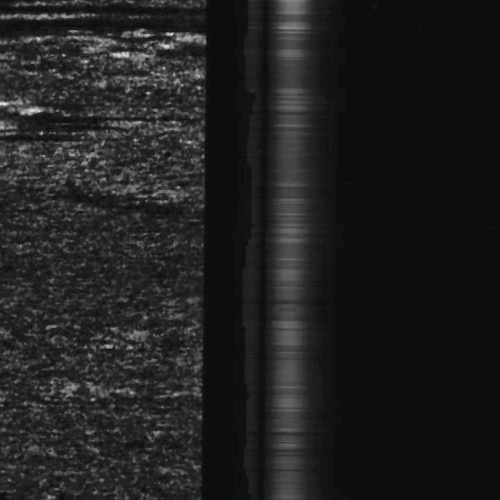object: (0, 105, 72, 128), (0, 131, 12, 136)
shadow: (0, 105, 133, 128), (0, 6, 74, 35), (0, 3, 140, 14), (0, 131, 79, 136), (0, 135, 62, 138)
